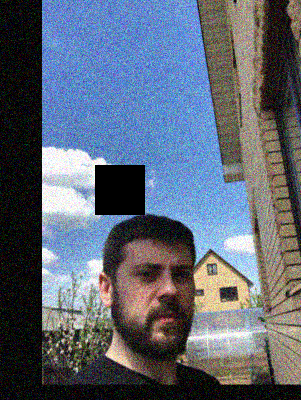without_mask: (127, 254, 196, 357)
